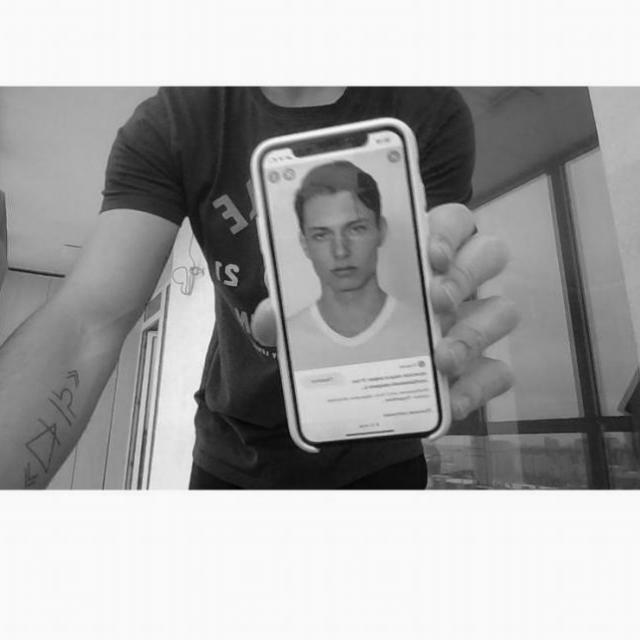fake: (250, 116, 455, 456)
